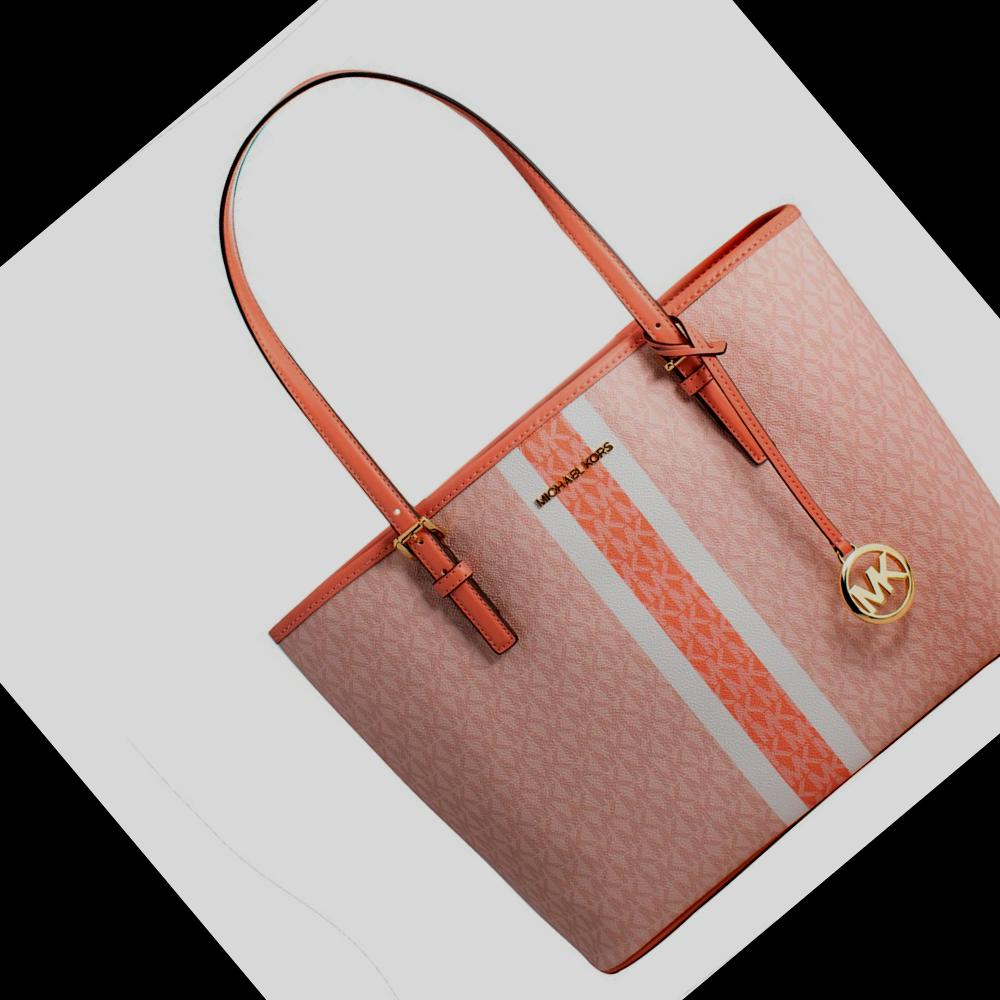MICHAEL-KORS: (534, 440, 614, 508)
